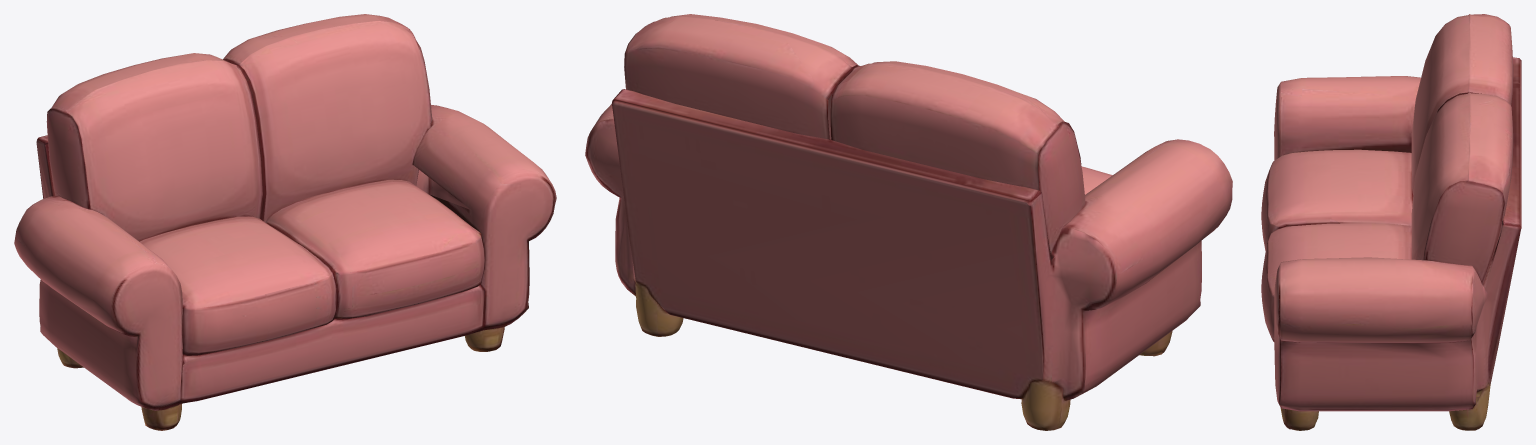
Rendered from item-sofa.glb.
The picture shows the model from 3 angles, left to right: view 1: azimuth 30°, elevation 25°; view 2: azimuth 150°, elevation 25°; view 3: azimuth 270°, elevation 25°; orthographic projection. The views are drawn at different scales.
Bounding box in the file's own units: 0.957 × 0.54 × 0.4736.
Materials: 1 (1 with a texture image).
